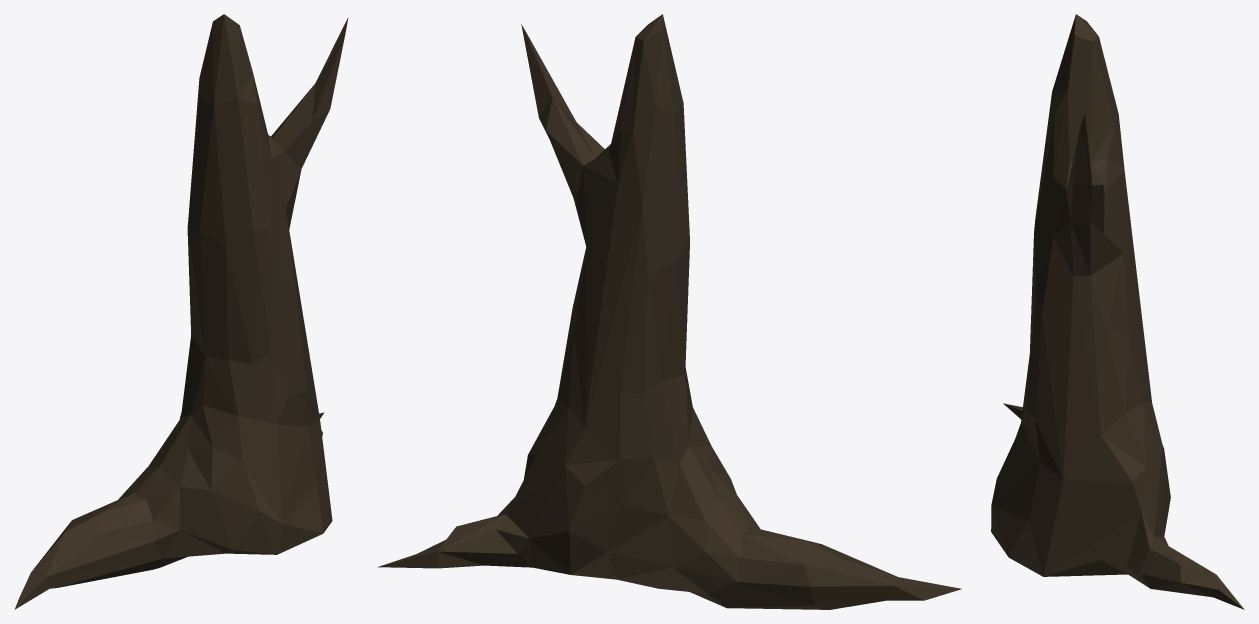
The model's file is SM_tree_d_07.fbx.
The picture shows the model from 3 angles, left to right: view 1: azimuth 30°, elevation 25°; view 2: azimuth 150°, elevation 25°; view 3: azimuth 270°, elevation 25°; orthographic projection. The views are drawn at different scales.
Parts seen in each view (by area): view 1: Object183; view 2: Object183; view 3: Object183.
Part boxes in pixels (left/top/right/bottom): Object183: left=14, top=14, right=348, bottom=609; Object183: left=377, top=14, right=961, bottom=609; Object183: left=991, top=14, right=1244, bottom=609.
Bounding box in the file's own units: 205 × 105 × 245.
